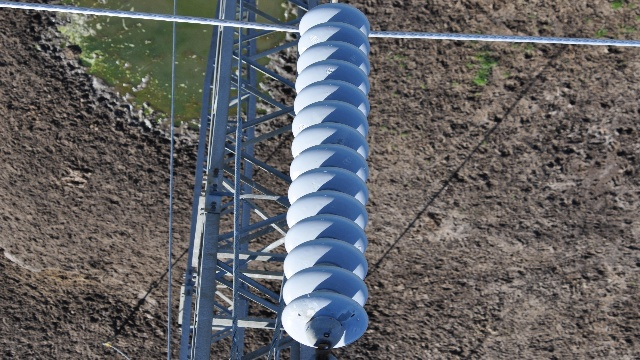insulator_unspecified: (281, 5, 372, 346)
pollution_flashover_local: (292, 297, 318, 317), (337, 310, 356, 323), (336, 129, 351, 145)
